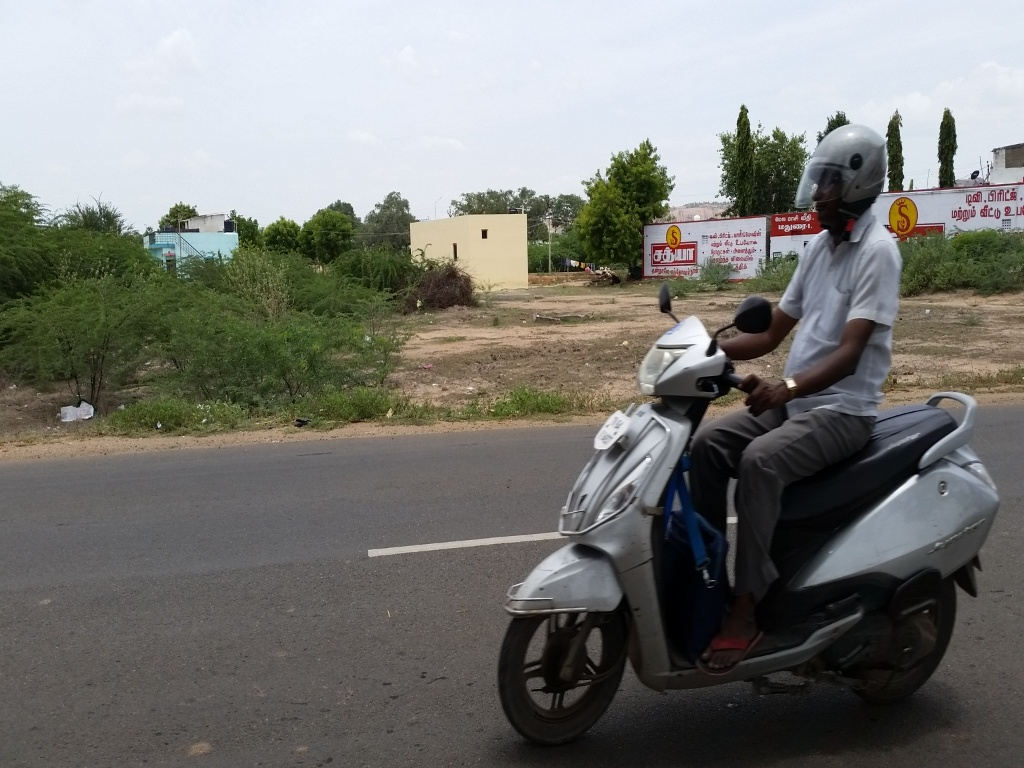biker: (471, 63, 1024, 768)
helmet: (790, 118, 898, 240)
